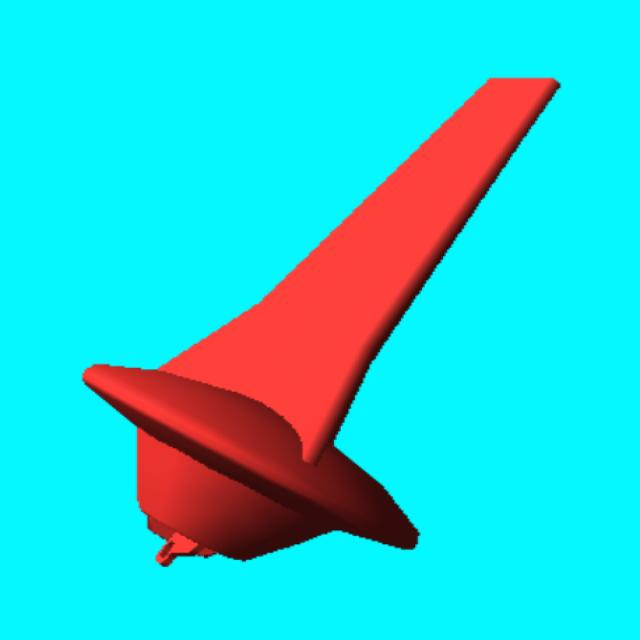RedBuoy: (83, 79, 558, 564)
